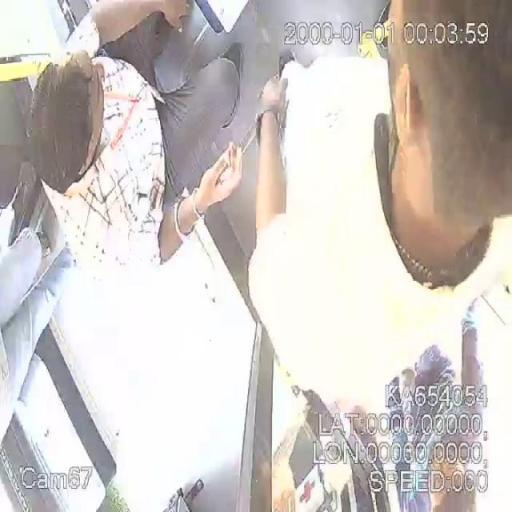persona: (247, 4, 509, 510), (24, 5, 248, 277), (378, 312, 488, 506)
